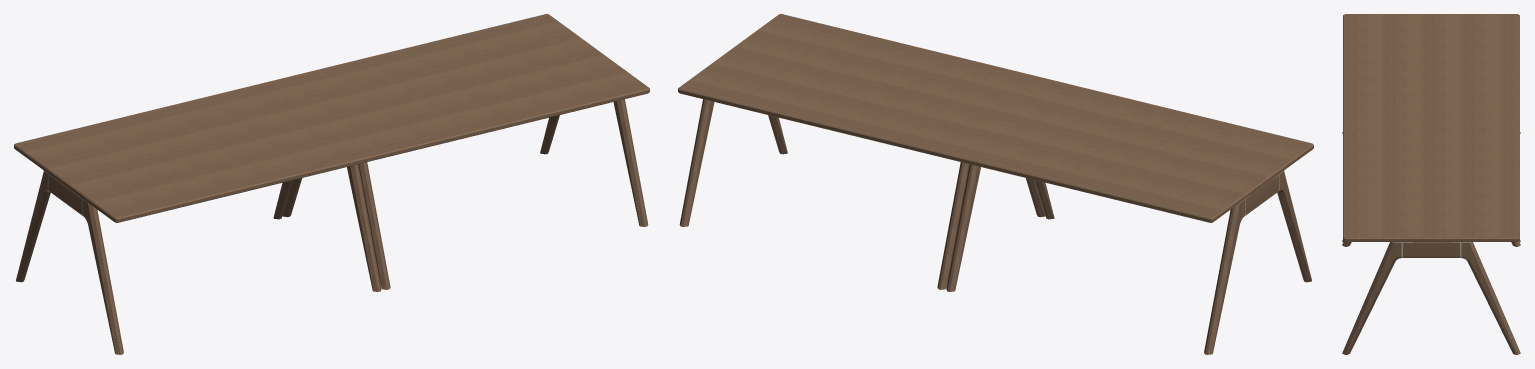
Rendered from table.fbx.
The picture shows the model from 3 angles, left to right: view 1: azimuth 30°, elevation 25°; view 2: azimuth 150°, elevation 25°; view 3: azimuth 270°, elevation 25°; orthographic projection. The views are drawn at different scales.
Visible parts, largest first — view 1: L_a4b01f43_a507_48d4_92b4_347da32b38f2_C1_I12, L_e0f8191e_8351_4e08_8aa3_fc9949e14b51_C1_I24, L_95fed4b3_ee81_4d81_aa70_7990417051f3_C1_I5, L_c2d2b07f_711e_409f_b179_2e40ef79844b_C1_I16, L_b1a326f9_581f_441c_a0ea_c585d8543816_C1_I13, L_c2d2b07f_711e_409f_b179_2e40ef79844b_C1_I19, L_c2d2b07f_711e_409f_b179_2e40ef79844b_C1_I17, L_c2d2b07f_711e_409f_b179_2e40ef79844b_C1_I18, L_cbeeabd1_ff38_4e3d_9179_5ba88871be93_C1_I20, L_a01b56b8_130b_4fed_98ee_f8ed2dbfb38d_C1_I8; view 2: L_a4b01f43_a507_48d4_92b4_347da32b38f2_C1_I12, L_e0f8191e_8351_4e08_8aa3_fc9949e14b51_C1_I24, L_95fed4b3_ee81_4d81_aa70_7990417051f3_C1_I5, L_cbeeabd1_ff38_4e3d_9179_5ba88871be93_C1_I20, L_b1a326f9_581f_441c_a0ea_c585d8543816_C1_I13, L_cbeeabd1_ff38_4e3d_9179_5ba88871be93_C1_I23, L_cbeeabd1_ff38_4e3d_9179_5ba88871be93_C1_I21, L_cbeeabd1_ff38_4e3d_9179_5ba88871be93_C1_I22, L_c2d2b07f_711e_409f_b179_2e40ef79844b_C1_I16, L_a01b56b8_130b_4fed_98ee_f8ed2dbfb38d_C1_I8; view 3: L_a4b01f43_a507_48d4_92b4_347da32b38f2_C1_I12, L_e0f8191e_8351_4e08_8aa3_fc9949e14b51_C1_I24, L_c2d2b07f_711e_409f_b179_2e40ef79844b_C1_I19, L_cbeeabd1_ff38_4e3d_9179_5ba88871be93_C1_I23, L_b1a326f9_581f_441c_a0ea_c585d8543816_C1_I13, L_a01b56b8_130b_4fed_98ee_f8ed2dbfb38d_C1_I11, L_95fed4b3_ee81_4d81_aa70_7990417051f3_C1_I5.
Part boxes in pixels (x1,y1,x2,y2): L_a4b01f43_a507_48d4_92b4_347da32b38f2_C1_I12: (15,78,382,217); L_e0f8191e_8351_4e08_8aa3_fc9949e14b51_C1_I24: (281,14,648,153); L_95fed4b3_ee81_4d81_aa70_7990417051f3_C1_I5: (14,144,383,222); L_c2d2b07f_711e_409f_b179_2e40ef79844b_C1_I16: (83,200,123,354); L_b1a326f9_581f_441c_a0ea_c585d8543816_C1_I13: (383,88,649,157); L_c2d2b07f_711e_409f_b179_2e40ef79844b_C1_I19: (613,99,648,226); L_c2d2b07f_711e_409f_b179_2e40ef79844b_C1_I17: (347,164,381,291); L_c2d2b07f_711e_409f_b179_2e40ef79844b_C1_I18: (358,162,390,289); L_cbeeabd1_ff38_4e3d_9179_5ba88871be93_C1_I20: (16,171,50,282); L_a01b56b8_130b_4fed_98ee_f8ed2dbfb38d_C1_I8: (49,175,83,216); L_a4b01f43_a507_48d4_92b4_347da32b38f2_C1_I12: (945,78,1312,217); L_e0f8191e_8351_4e08_8aa3_fc9949e14b51_C1_I24: (679,14,1046,153); L_95fed4b3_ee81_4d81_aa70_7990417051f3_C1_I5: (944,144,1313,222); L_cbeeabd1_ff38_4e3d_9179_5ba88871be93_C1_I20: (1204,200,1244,354); L_b1a326f9_581f_441c_a0ea_c585d8543816_C1_I13: (678,88,944,157); L_cbeeabd1_ff38_4e3d_9179_5ba88871be93_C1_I23: (679,99,714,226); L_cbeeabd1_ff38_4e3d_9179_5ba88871be93_C1_I21: (946,164,980,291); L_cbeeabd1_ff38_4e3d_9179_5ba88871be93_C1_I22: (937,162,969,289); L_c2d2b07f_711e_409f_b179_2e40ef79844b_C1_I16: (1277,171,1311,282); L_a01b56b8_130b_4fed_98ee_f8ed2dbfb38d_C1_I8: (1244,175,1278,216); L_a4b01f43_a507_48d4_92b4_347da32b38f2_C1_I12: (1343,14,1519,125); L_e0f8191e_8351_4e08_8aa3_fc9949e14b51_C1_I24: (1343,126,1519,237); L_c2d2b07f_711e_409f_b179_2e40ef79844b_C1_I19: (1342,242,1401,354); L_cbeeabd1_ff38_4e3d_9179_5ba88871be93_C1_I23: (1461,242,1520,354); L_b1a326f9_581f_441c_a0ea_c585d8543816_C1_I13: (1343,126,1519,241); L_a01b56b8_130b_4fed_98ee_f8ed2dbfb38d_C1_I11: (1402,242,1460,257); L_95fed4b3_ee81_4d81_aa70_7990417051f3_C1_I5: (1343,15,1519,126).
Bounding box in the file's own units: 3000 × 1007 × 732.
3 materials, 2 textured.
